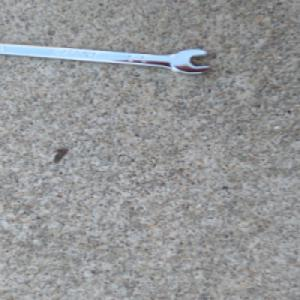Wrench: (0, 41, 211, 76)
